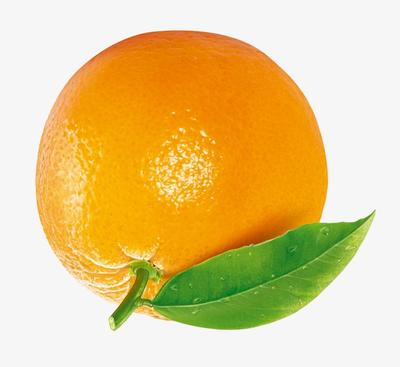orange: (0, 0, 400, 367)
